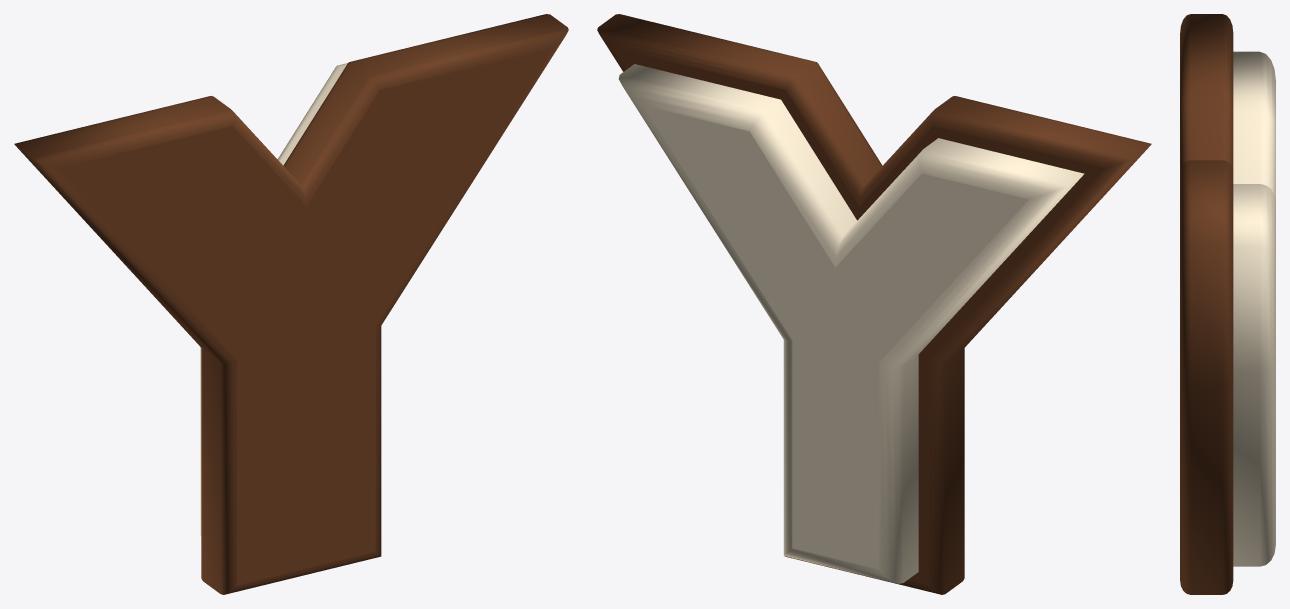
File: Letter_Y.fbx
The picture shows the model from 3 angles, left to right: view 1: azimuth 30°, elevation 25°; view 2: azimuth 150°, elevation 25°; view 3: azimuth 270°, elevation 25°; orthographic projection. The views are drawn at different scales.
Visible parts, largest first — view 1: Letter_Y; view 2: Letter_Y; view 3: Letter_Y.
Part boxes in pixels (x1,y1,x2,y2): Letter_Y: [14, 14, 568, 594]; Letter_Y: [597, 14, 1151, 594]; Letter_Y: [1180, 14, 1275, 594].
Bounding box in the file's own units: 1.04 × 0.892 × 0.18.
1 material, 1 textured.
